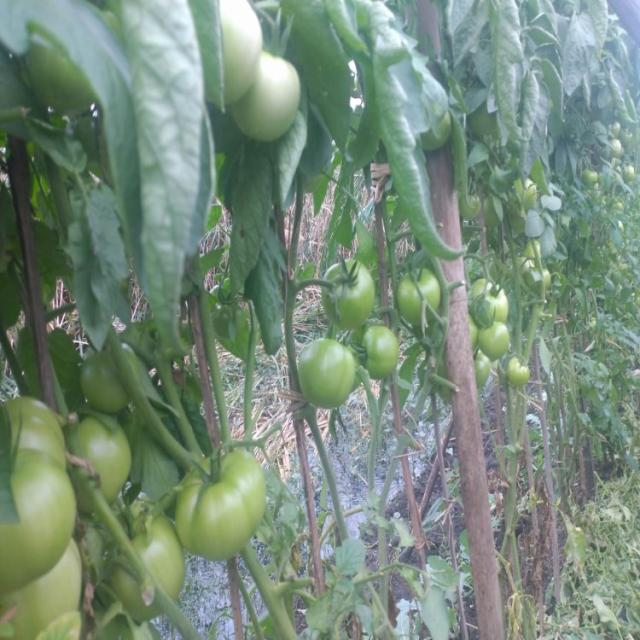tomato: (1, 447, 84, 575), (180, 437, 268, 556), (16, 536, 88, 640), (313, 249, 399, 336), (71, 410, 140, 507), (213, 2, 276, 108), (245, 49, 307, 148), (290, 335, 367, 414), (122, 509, 187, 594), (22, 50, 99, 121), (5, 386, 63, 476), (351, 324, 409, 390), (78, 350, 137, 413), (397, 258, 446, 331), (474, 280, 521, 329), (500, 360, 546, 392), (479, 318, 514, 357), (529, 256, 556, 298), (459, 184, 484, 219), (515, 174, 543, 204), (469, 347, 493, 381), (605, 135, 629, 163), (580, 166, 605, 187), (628, 162, 640, 189)
